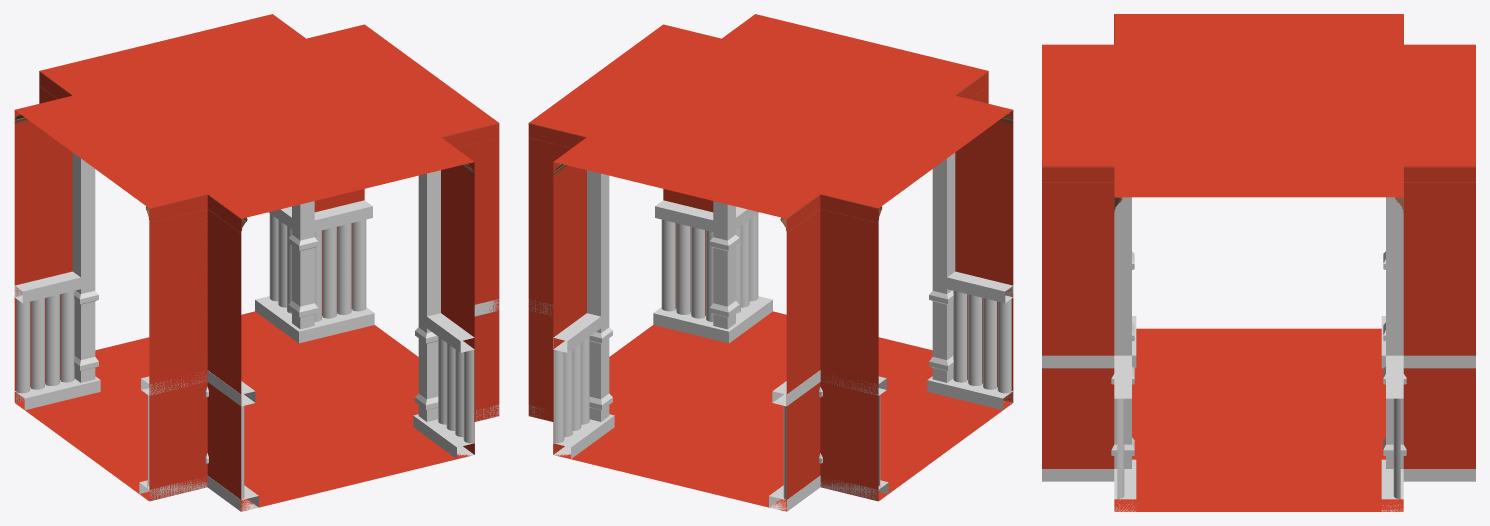
The model's file is XJunction.fbx.
3 renders of one model, left to right at view 1: azimuth 30°, elevation 25°; view 2: azimuth 150°, elevation 25°; view 3: azimuth 270°, elevation 25°, orthographic. The views are drawn at different scales.
Parts seen in each view (by area): view 1: XJunction; view 2: XJunction; view 3: XJunction.
Boxes of the visible parts, box(x1,y1,x2,y2) form: XJunction: box(14, 14, 499, 511); XJunction: box(528, 14, 1013, 511); XJunction: box(1042, 14, 1475, 511).
Size of the model in its own units: 3 by 2.4 by 3.
